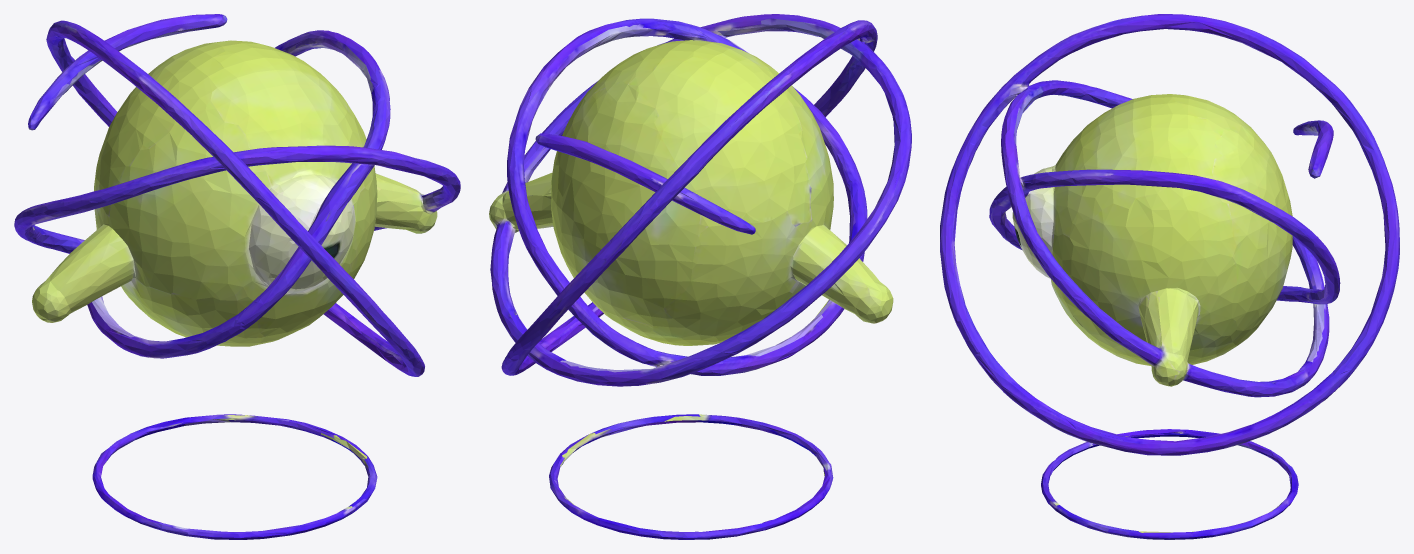
File: creature-042.lod.glb
The picture shows the model from 3 angles, left to right: view 1: azimuth 30°, elevation 25°; view 2: azimuth 150°, elevation 25°; view 3: azimuth 270°, elevation 25°; orthographic projection. The views are drawn at different scales.
Parts seen in each view (by area): view 1: tmps7yg3o4c.ply; view 2: tmps7yg3o4c.ply; view 3: tmps7yg3o4c.ply.
Part boxes in pixels (x1,y1,x2,y2): tmps7yg3o4c.ply: (14,14,460,539); tmps7yg3o4c.ply: (489,14,911,539); tmps7yg3o4c.ply: (940,14,1399,539).
Bounding box in the file's own units: 1.78 × 1.99 × 1.99.
Materials: 1 (1 with a texture image).
